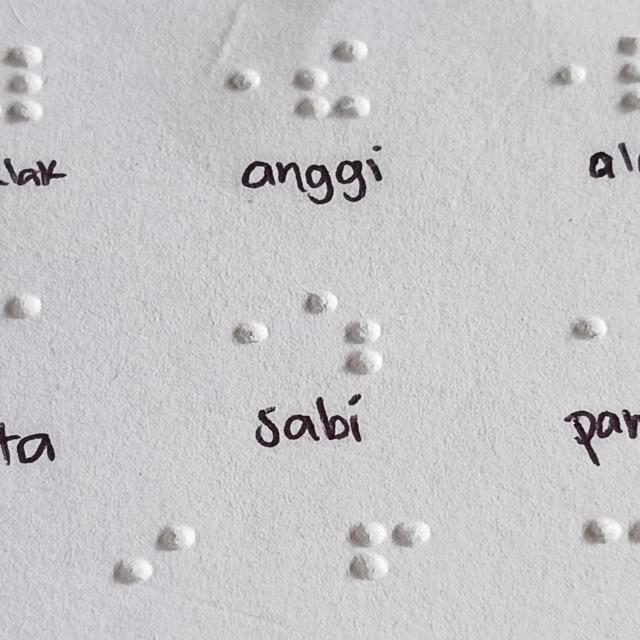dot_5: (188, 290, 271, 373), (176, 43, 259, 125)
two_cell_non_alphabet_anggi: (293, 40, 375, 123)
two_cell_non_alphabet_sabi: (306, 291, 382, 373)
